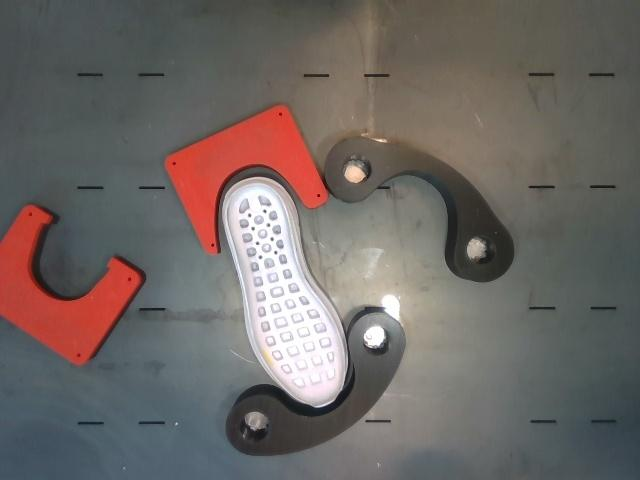shoes: (227, 185, 344, 406)
